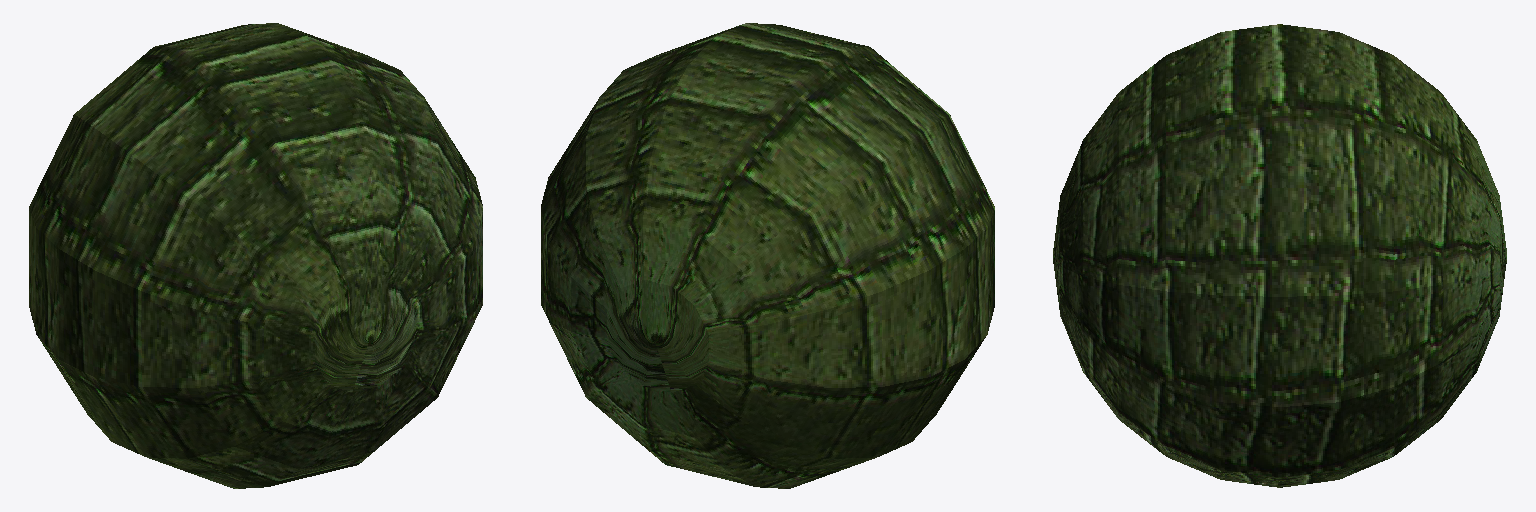
3 views of the same model, side by side, from view 1: azimuth 30°, elevation 25°; view 2: azimuth 150°, elevation 25°; view 3: azimuth 270°, elevation 25° (orthographic).
Visible parts, largest first — view 1: sphere-low; view 2: sphere-low; view 3: sphere-low.
Part boxes in pixels (left/top/right/bottom): sphere-low: left=29, top=23, right=482, bottom=488; sphere-low: left=541, top=23, right=994, bottom=488; sphere-low: left=1053, top=24, right=1506, bottom=487.
Size of the model in its own units: 60 by 60 by 60.
1 materials, 1 textured.